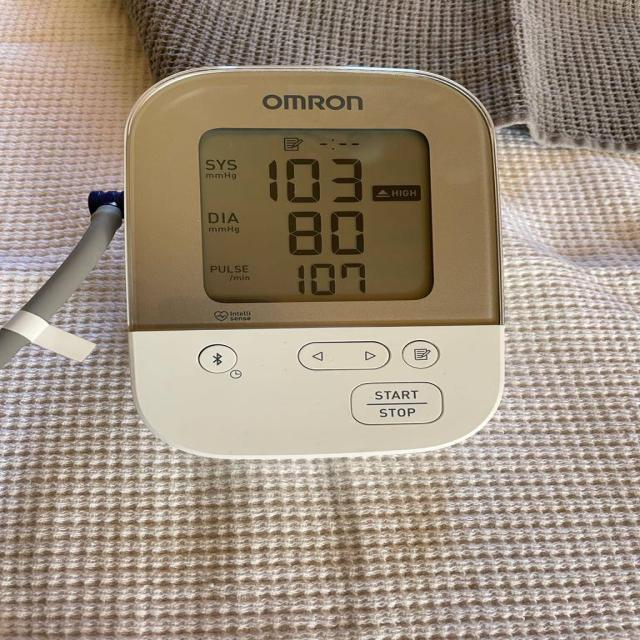bp: (123, 67, 506, 464)
